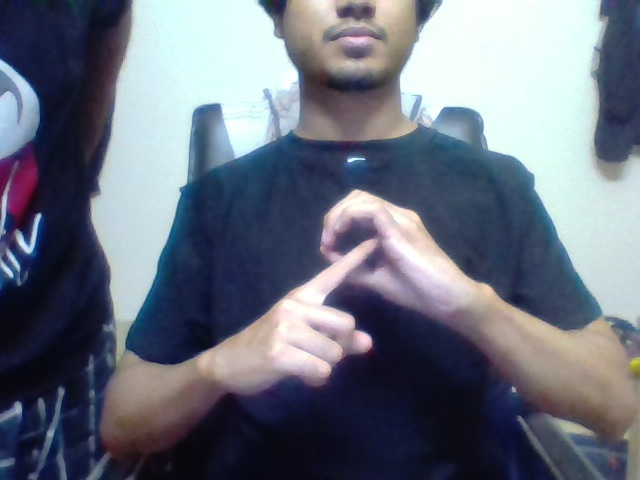Q: (329, 205, 397, 289)
